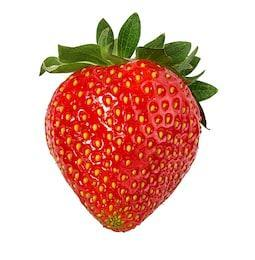Fresa: (38, 41, 216, 238)
